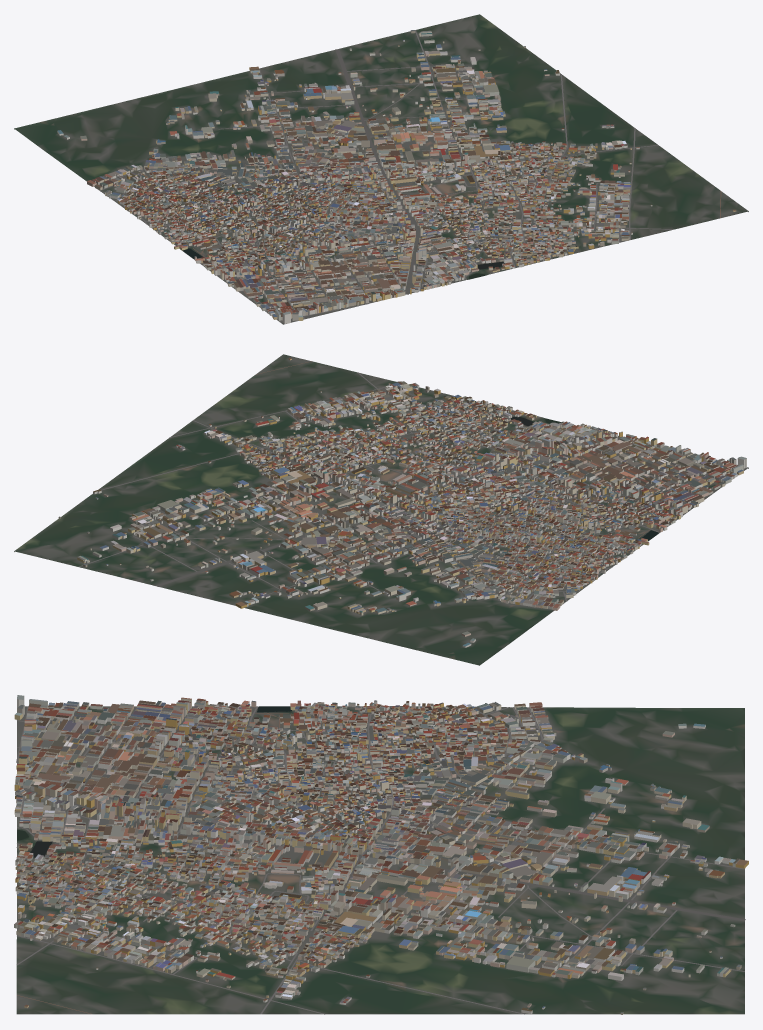
3 renders of one model, top to bottom at view 1: azimuth 30°, elevation 25°; view 2: azimuth 150°, elevation 25°; view 3: azimuth 270°, elevation 25°, orthographic. The views are drawn at different scales.
Visible parts, largest first — view 1: buildings, ground, roads; view 2: buildings, ground, roads; view 3: buildings, ground, roads, water.
Boxes of the visible parts, bbox=[...] form: buildings: bbox=[57, 30, 736, 323]; ground: bbox=[14, 14, 748, 324]; roads: bbox=[94, 30, 721, 322]; buildings: bbox=[58, 357, 746, 647]; ground: bbox=[14, 354, 748, 665]; roads: bbox=[78, 361, 744, 605]; buildings: bbox=[14, 695, 748, 1014]; ground: bbox=[16, 706, 744, 1014]; roads: bbox=[16, 706, 745, 1014]; water: bbox=[17, 706, 291, 857].
Bounding box in the file's own units: 1415 × 32.78 × 1415.
